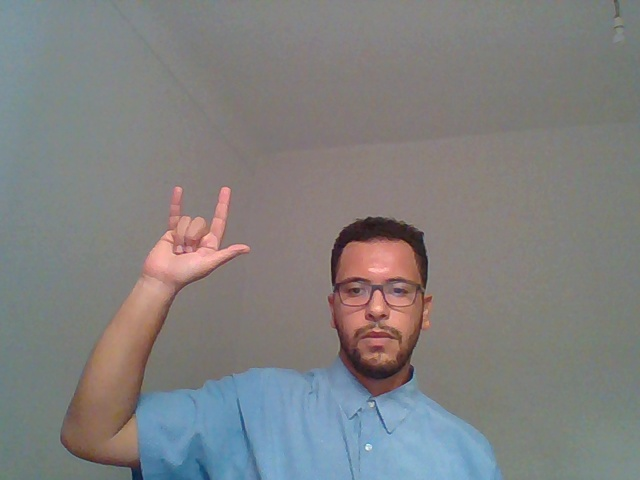iloveyou: (96, 144, 257, 364)
